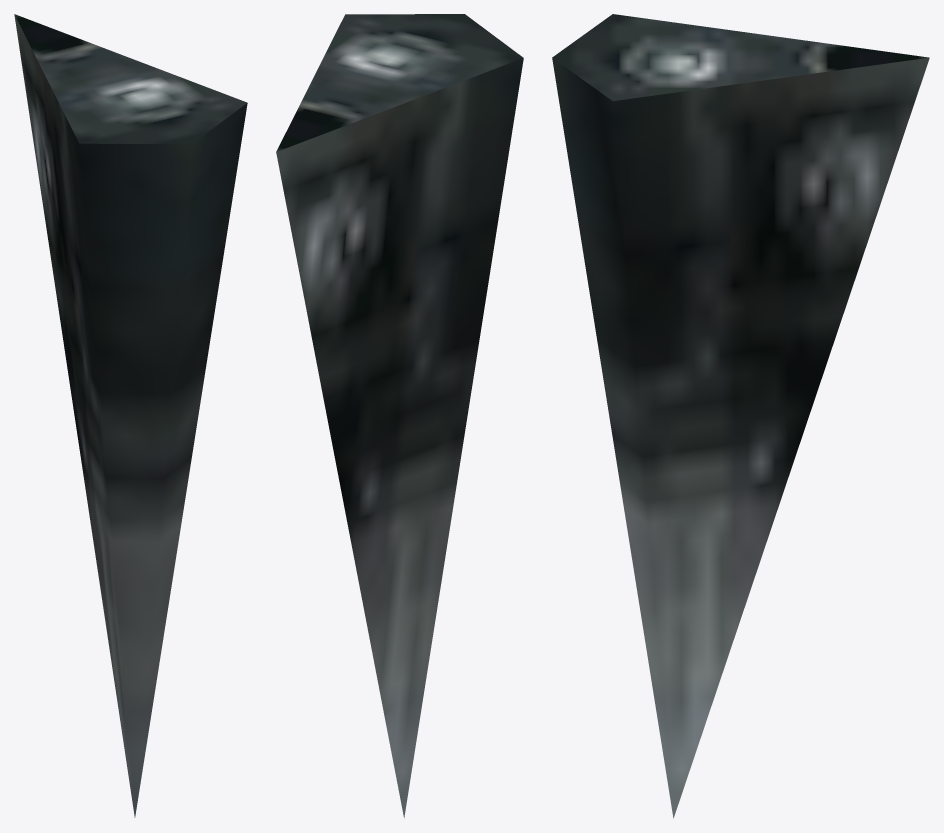
File: wp_muzzle_d18_l2.fbx
3 views of the same model, side by side, from view 1: azimuth 30°, elevation 25°; view 2: azimuth 150°, elevation 25°; view 3: azimuth 270°, elevation 25° (orthographic). The views are drawn at different scales.
Parts seen in each view (by area): view 1: mesh_node; view 2: mesh_node; view 3: mesh_node.
Boxes of the visible parts, x1=… form: mesh_node: x1=14, y1=14, x2=247, y2=817; mesh_node: x1=276, y1=14, x2=523, y2=818; mesh_node: x1=552, y1=14, x2=929, y2=818.
Bounding box in the file's own units: 0.0175 × 0.0714 × 0.0321.
Materials: 1 (1 with a texture image).
